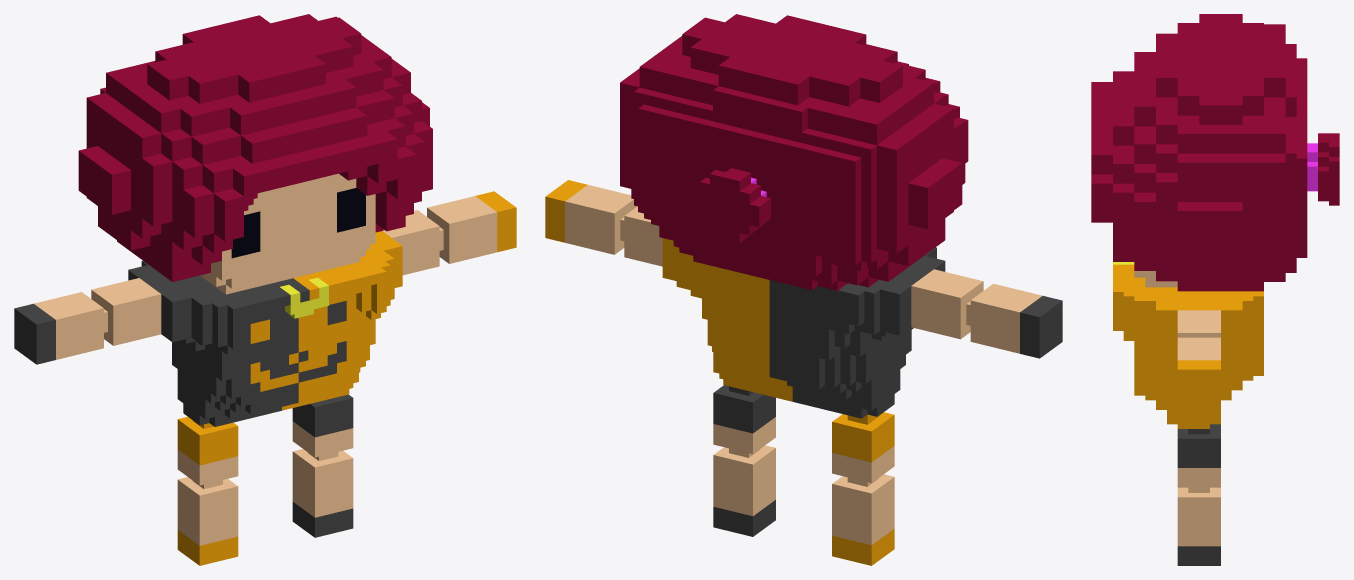
The model's file is Lady.obj.
3 views of the same model, side by side, from view 1: azimuth 30°, elevation 25°; view 2: azimuth 150°, elevation 25°; view 3: azimuth 270°, elevation 25° (orthographic). The views are drawn at different scales.
Bounding box in the file's own units: 5 × 4.8 × 2.3.
Materials: 1 (1 with a texture image).
